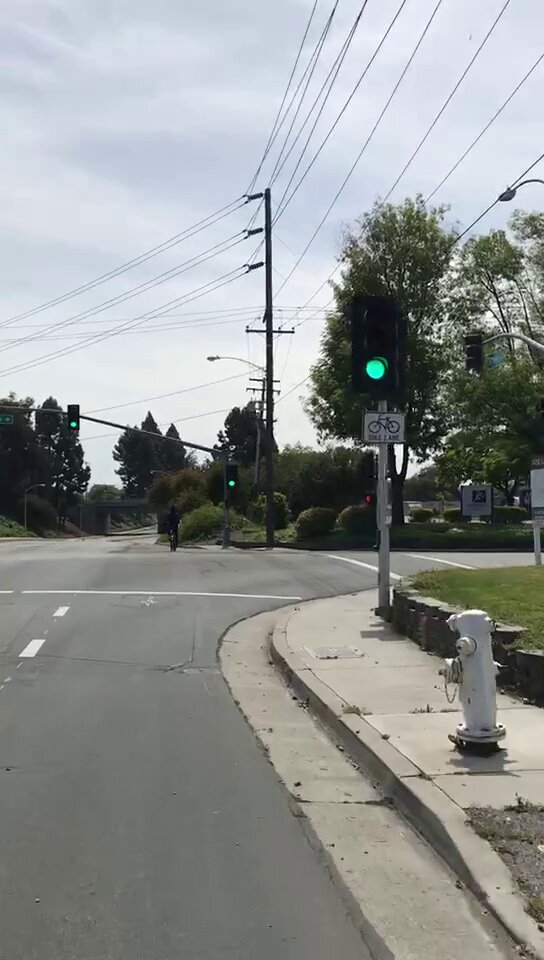green_light: (356, 298, 398, 391), (227, 463, 238, 490), (67, 407, 79, 430)
